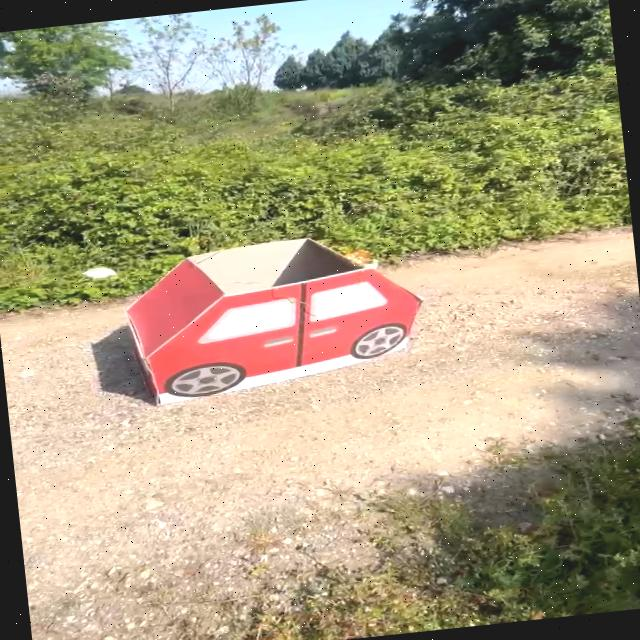red_car: (106, 219, 445, 420)
